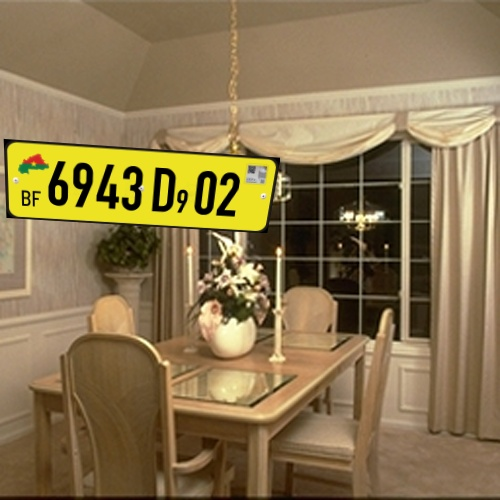plate: (3, 127, 281, 249)
